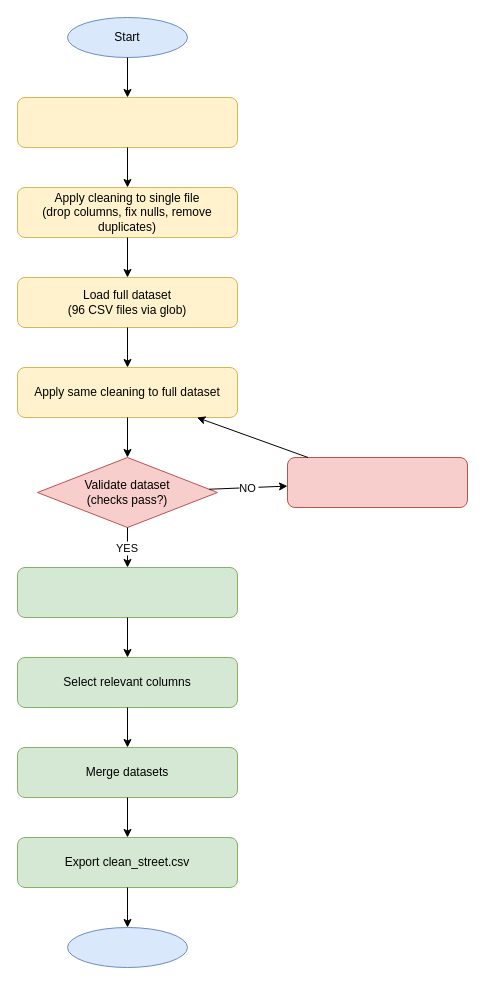
Image size: 485x985. Some labels were removed from this diagram. Here are the shapes that lost their labels. From the top down, the centre of each, then its label:
At pixel 127 122: "Single file inspection (nulls, duplicates, column review)".
At pixel 377 482: "Fix errors and reapply cleaning".
At pixel 127 592: "Load external datasets (ONS population + house prices)".
At pixel 127 947: "End".
